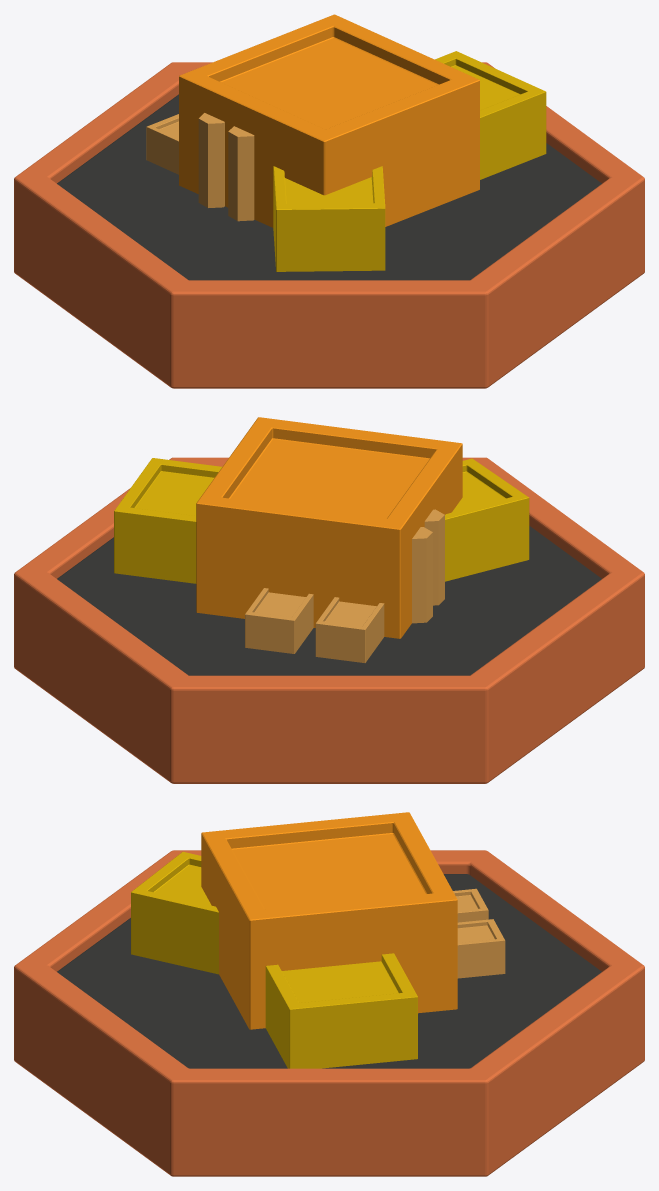
Rendered from Shop3.fbx.
3 renders of one model, top to bottom at view 1: azimuth 30°, elevation 25°; view 2: azimuth 150°, elevation 25°; view 3: azimuth 270°, elevation 25°, orthographic.
Visible parts, largest first — view 1: Cylinder.001; view 2: Cylinder.001; view 3: Cylinder.001.
Boxes of the visible parts, box(x1,y1,x2,y2) form: Cylinder.001: box(14, 14, 644, 388); Cylinder.001: box(14, 417, 644, 783); Cylinder.001: box(14, 812, 644, 1176).
Size of the model in its own units: 173 by 68.38 by 200.
